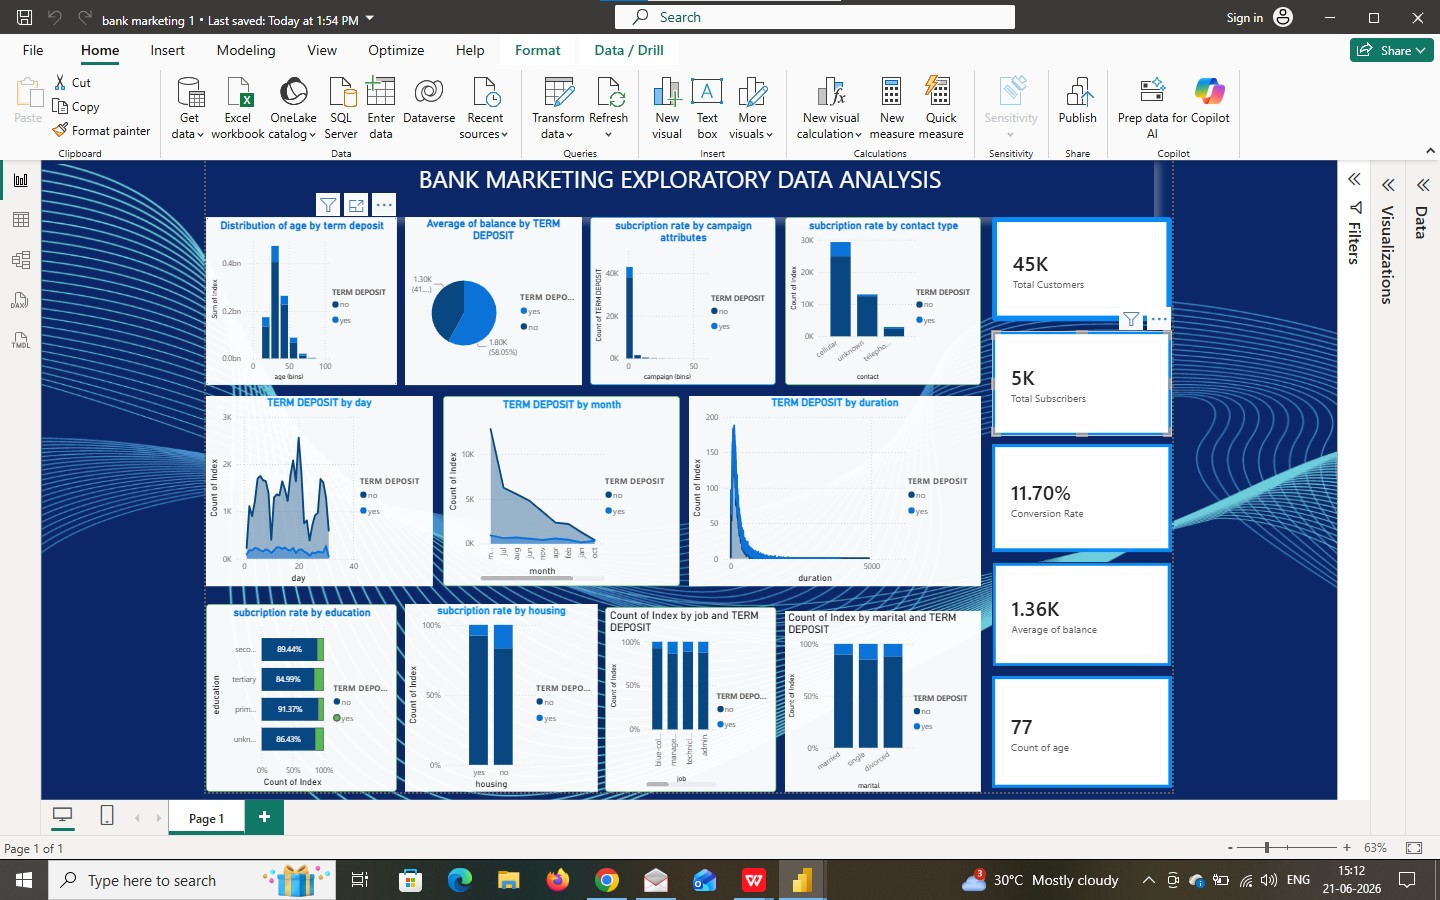

Layout of this report page (visuals, bound fields, positions):
{"tool":"powerbi","page":{"name":"Page 1","canvas":[1528,1000],"ordinal":0},"visuals":[{"type":"textbox","box":[0,0,1500,89.7],"z":0},{"type":"columnChart","title":"Distribution of age by term deposit","fields":{"Y":["Sum(bank-full.Index)"],"Category":["bank-full.age (bins)"],"Series":["bank-full.TERM DEPOSIT"]},"box":[0,90.2,302.2,265.8],"z":1000},{"type":"pieChart","fields":{"Category":["bank-full.TERM DEPOSIT"],"Y":["Avg(bank-full.balance)"]},"box":[314.9,90.2,280.1,265.8],"z":2000},{"type":"columnChart","title":"subcription rate by campaign attributes","fields":{"Series":["bank-full.TERM DEPOSIT"],"Category":["bank-full.campaign (bins)"],"Y":["CountNonNull(bank-full.TERM DEPOSIT)"]},"box":[607.6,90.2,294.3,265.8],"z":3000},{"type":"columnChart","title":"subcription rate by contact type","fields":{"Series":["bank-full.TERM DEPOSIT"],"Category":["bank-full.contact"],"Y":["Count(bank-full.Index)"]},"box":[916.1,90.2,310.1,265.8],"z":4000},{"type":"areaChart","title":"TERM DEPOSIT by day","fields":{"Category":["bank-full.day"],"Y":["Count(bank-full.Index)"],"Series":["bank-full.TERM DEPOSIT"]},"box":[0,373.4,359.2,300.6],"z":5000},{"type":"areaChart","title":"TERM DEPOSIT by month","fields":{"Y":["Count(bank-full.Index)"],"Series":["bank-full.TERM DEPOSIT"],"Category":["bank-full.month"]},"box":[375,373.4,375,300.6],"z":6000},{"type":"stackedAreaChart","title":" TERM DEPOSIT by duration","fields":{"Category":["bank-full.duration"],"Y":["Count(bank-full.Index)"],"Series":["bank-full.TERM DEPOSIT"]},"box":[764.2,373.4,462,300.6],"z":7000},{"type":"hundredPercentStackedBarChart","title":"subcription rate by education","fields":{"Series":["bank-full.TERM DEPOSIT"],"Y":["Count(bank-full.Index)"],"Category":["bank-full.education"]},"box":[0,702.5,302.2,297.5],"z":8000},{"type":"hundredPercentStackedColumnChart","title":"subcription rate by housing","fields":{"Category":["bank-full.housing"],"Y":["Count(bank-full.Index)"],"Series":["bank-full.TERM DEPOSIT"]},"box":[314.9,702.5,305.4,297.5],"z":9000},{"type":"hundredPercentStackedColumnChart","fields":{"Category":["bank-full.job"],"Y":["Count(bank-full.Index)"],"Series":["bank-full.TERM DEPOSIT"]},"box":[631.3,707.3,270.6,292.7],"z":10000},{"type":"hundredPercentStackedColumnChart","fields":{"Category":["bank-full.marital"],"Y":["Count(bank-full.Index)"],"Series":["bank-full.TERM DEPOSIT"]},"box":[916.1,713.6,310.1,286.4],"z":11000},{"type":"cardVisual","fields":{"Data":["Table.Total Customers"]},"box":[1243.7,90.2,284.8,164.6],"z":12000},{"type":"cardVisual","fields":{"Data":["Table.Total Subscribers"]},"box":[1243.7,270.6,284.8,166.1],"z":13000},{"type":"cardVisual","fields":{"Data":["Table.Conversion Rate"]},"box":[1243.7,449.4,284.8,170.9],"z":14000},{"type":"cardVisual","fields":{"Data":["Avg(bank-full.balance)"]},"box":[1243.7,636.1,284.8,166.1],"z":15000},{"type":"cardVisual","fields":{"Data":["Count(bank-full.age)"]},"box":[1243.7,816.5,284.8,177.2],"z":16000}]}

Visuals, with their boxes on the page's 1528x1000 design canvas (x1, y1, x2, y2). These are canvas units, not pixel positions in the 1440x900 screenshot, which may show the page scaled, cropped or inside an application window:
textbox: detection(0, 0, 1500, 90)
"Distribution of age by term deposit" columnChart: detection(0, 90, 302, 356)
pieChart - bank-full.TERM DEPOSIT x Avg(bank-full.balance): detection(315, 90, 595, 356)
"subcription rate by campaign attributes" columnChart: detection(608, 90, 902, 356)
"subcription rate by contact type" columnChart: detection(916, 90, 1226, 356)
"TERM DEPOSIT by day" areaChart: detection(0, 373, 359, 674)
"TERM DEPOSIT by month" areaChart: detection(375, 373, 750, 674)
" TERM DEPOSIT by duration" stackedAreaChart: detection(764, 373, 1226, 674)
"subcription rate by education" hundredPercentStackedBarChart: detection(0, 702, 302, 1000)
"subcription rate by housing" hundredPercentStackedColumnChart: detection(315, 702, 620, 1000)
hundredPercentStackedColumnChart - bank-full.job x Count(bank-full.Index): detection(631, 707, 902, 1000)
hundredPercentStackedColumnChart - bank-full.marital x Count(bank-full.Index): detection(916, 714, 1226, 1000)
cardVisual - Table.Total Customers: detection(1244, 90, 1528, 255)
cardVisual - Table.Total Subscribers: detection(1244, 271, 1528, 437)
cardVisual - Table.Conversion Rate: detection(1244, 449, 1528, 620)
cardVisual - Avg(bank-full.balance): detection(1244, 636, 1528, 802)
cardVisual - Count(bank-full.age): detection(1244, 816, 1528, 994)
